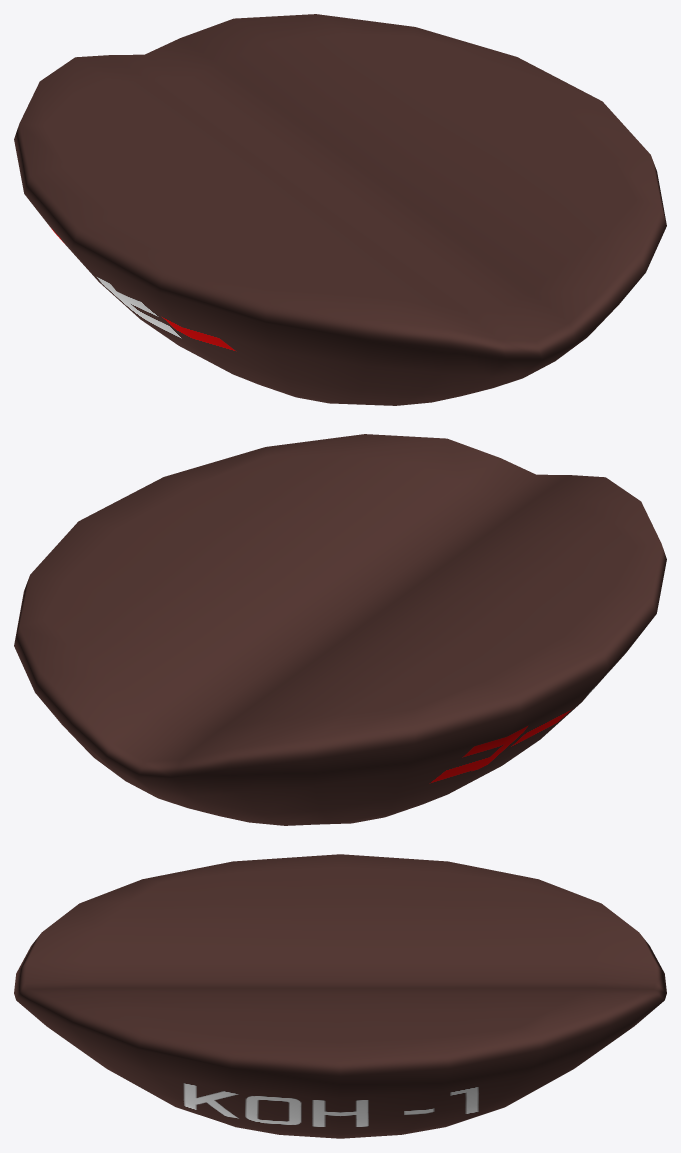
Rendered from koh1.gltf.
The picture shows the model from 3 angles, top to bottom: view 1: azimuth 30°, elevation 25°; view 2: azimuth 150°, elevation 25°; view 3: azimuth 270°, elevation 25°; orthographic projection. The views are drawn at different scales.
Visible parts, largest first — view 1: Circle; view 2: Circle; view 3: Circle.
Part boxes in pixels (box(x1,y1,x2,y2)): Circle: box(14, 14, 666, 405); Circle: box(14, 434, 666, 825); Circle: box(14, 854, 666, 1138).
Size of the model in its own units: 1.25 by 0.4186 by 1.64.
1 material, 1 textured.
